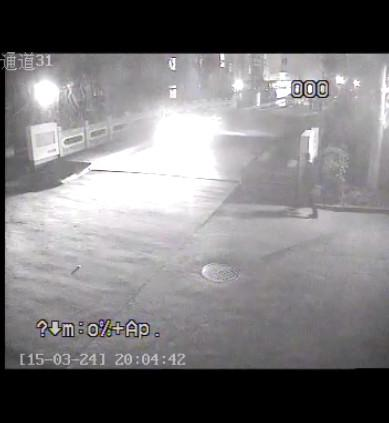person: (282, 151, 320, 219)
